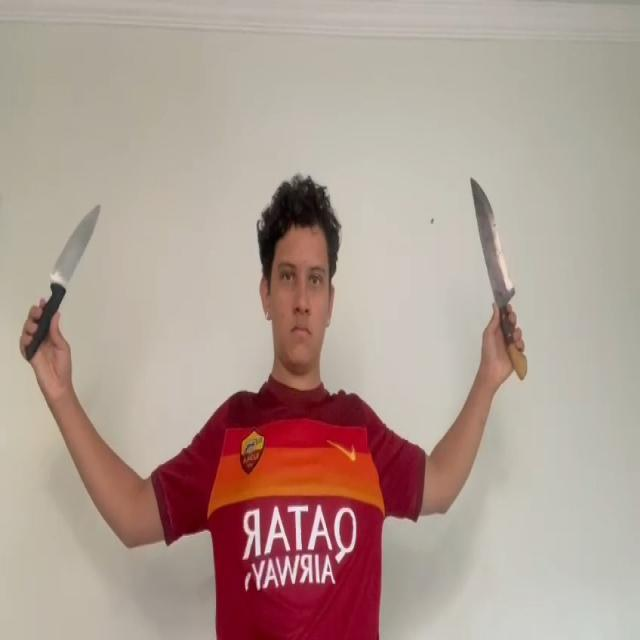knife: (470, 178, 514, 303), (52, 201, 101, 286)
